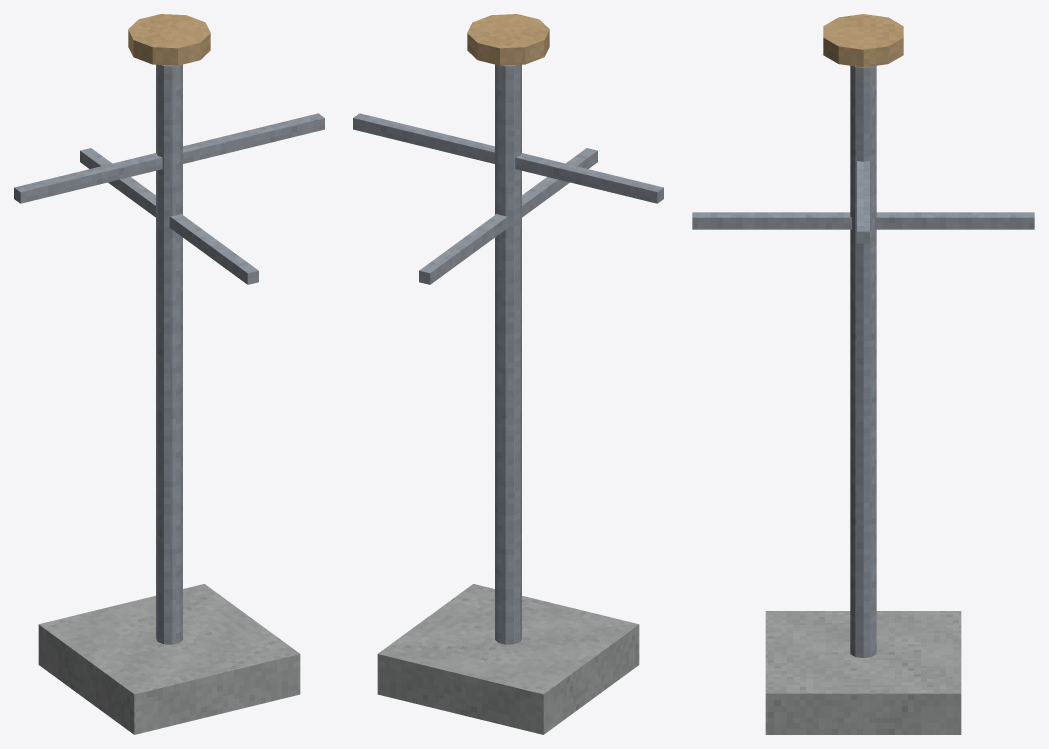
Rendered from level_blockout_radio_mast.glb.
3 views of the same model, side by side, from view 1: azimuth 30°, elevation 25°; view 2: azimuth 150°, elevation 25°; view 3: azimuth 270°, elevation 25° (orthographic). The views are drawn at different scales.
Parts seen in each view (by area): view 1: level_blockout_radio_mast; view 2: level_blockout_radio_mast; view 3: level_blockout_radio_mast.
Part boxes in pixels (left/top/right/bottom): level_blockout_radio_mast: left=14, top=14, right=324, bottom=734; level_blockout_radio_mast: left=353, top=14, right=663, bottom=734; level_blockout_radio_mast: left=692, top=14, right=1034, bottom=734.
Size of the model in its own units: 2.2 by 4.48 by 2.1.
Materials: 3 (3 with a texture image).
